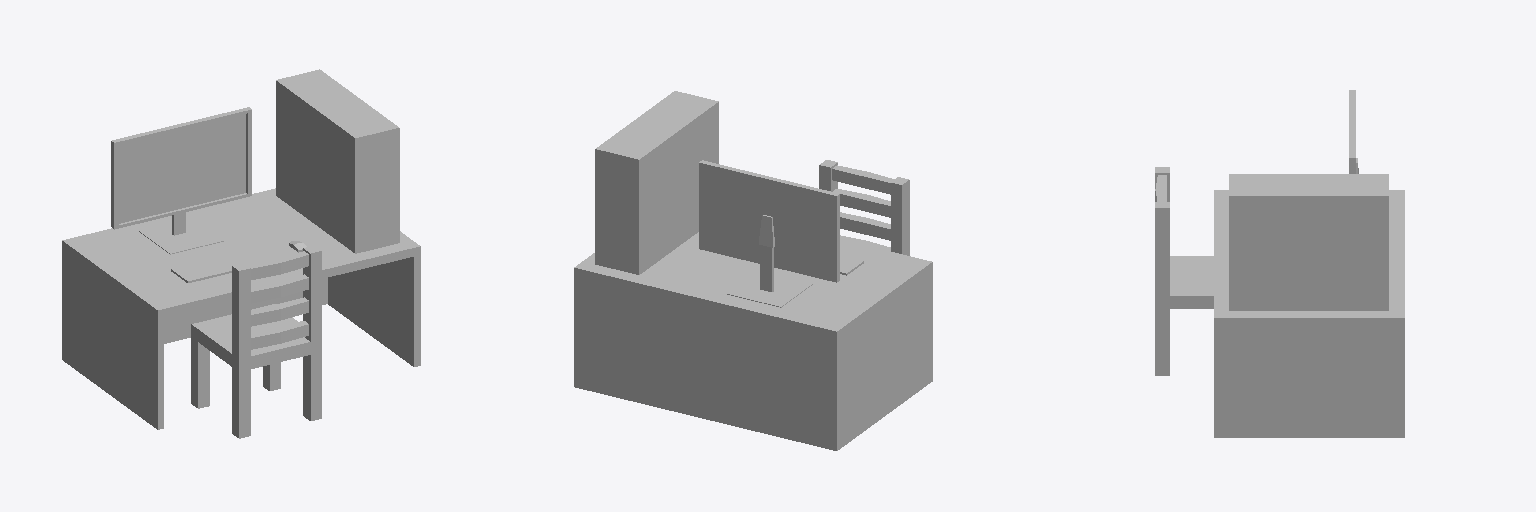
The model's file is Computer desk.obj.
3 views of the same model, side by side, from view 1: azimuth 30°, elevation 25°; view 2: azimuth 150°, elevation 25°; view 3: azimuth 270°, elevation 25° (orthographic).
Visible parts, largest first — view 1: Desk, Cpu, Sceeen, Chair, Chair-2, Keybord, Mouse_oat; view 2: Desk, Cpu, Sceeen, Chair; view 3: Desk, Cpu, Chair, Sceeen.
Part boxes in pixels (x1,y1,x2,y2): Desk: (62, 188, 420, 429); Cpu: (276, 69, 399, 253); Sceeen: (111, 107, 251, 254); Chair: (191, 245, 321, 438); Chair-2: (248, 252, 308, 349); Keybord: (171, 248, 273, 282); Mouse_oat: (266, 234, 329, 256); Desk: (574, 232, 932, 450); Cpu: (595, 91, 718, 274); Sceeen: (699, 160, 839, 307); Chair: (819, 160, 909, 255); Desk: (1214, 190, 1404, 437); Cpu: (1229, 174, 1388, 310); Chair: (1155, 167, 1213, 375); Sceeen: (1349, 90, 1358, 173).
Size of the model in its own units: 9.53 by 8.17 by 7.83.